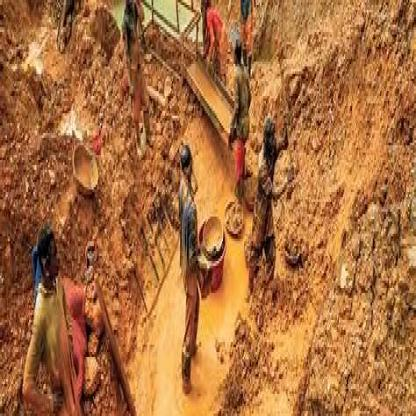excavator: (4, 32, 129, 330)
